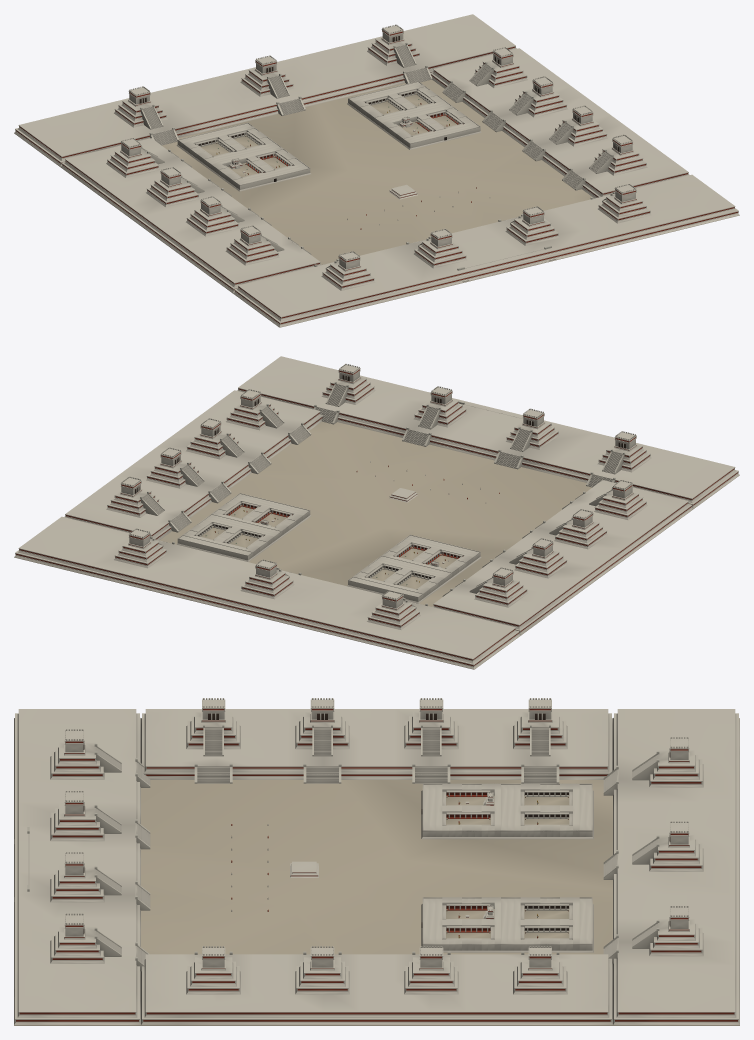
File: ciudadela.glb
The picture shows the model from 3 angles, top to bottom: view 1: azimuth 30°, elevation 25°; view 2: azimuth 150°, elevation 25°; view 3: azimuth 270°, elevation 25°; orthographic projection. The views are drawn at different scales.
Parts seen in each view (by area): view 1: p0_platforms, p1_stairs, p2_people; view 2: p0_platforms, p1_stairs, p2_people; view 3: p0_platforms, p1_stairs, p2_people.
Boxes of the visible parts, box(x1,y1,x2,y2) form: p0_platforms: box(14, 14, 739, 327); p1_stairs: box(106, 24, 651, 290); p2_people: box(176, 81, 490, 229); p0_platforms: box(14, 356, 739, 669); p1_stairs: box(106, 363, 651, 629); p2_people: box(177, 461, 499, 603); p0_platforms: box(14, 709, 739, 1025); p1_stairs: box(14, 698, 703, 994); p2_people: box(231, 783, 593, 952).
Bounding box in the file's own units: 400 × 28.13 × 400.
